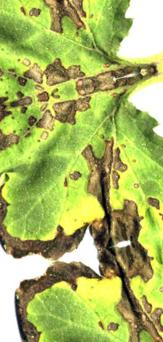Tomato leaf bacterial spot: (0, 68, 163, 291)
